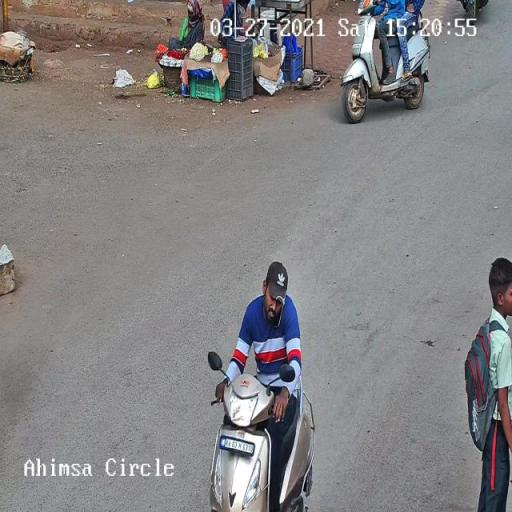using mobile: (267, 293, 289, 333)
